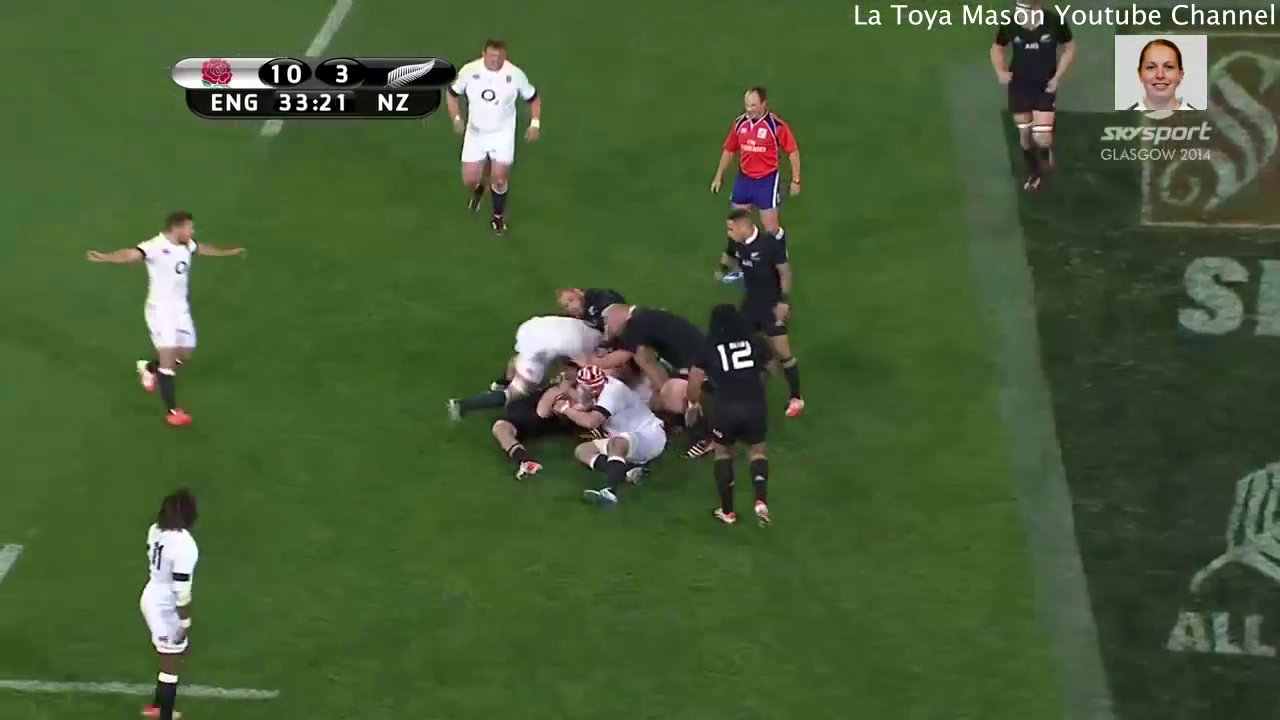player: (73, 207, 254, 437), (678, 292, 796, 544), (429, 31, 555, 246), (713, 196, 822, 428), (698, 72, 809, 289), (428, 308, 610, 430), (601, 294, 726, 469), (125, 478, 215, 720), (976, 1, 1080, 203), (566, 359, 674, 517), (479, 372, 593, 475), (543, 272, 639, 329)
ruck: (431, 265, 718, 517)
